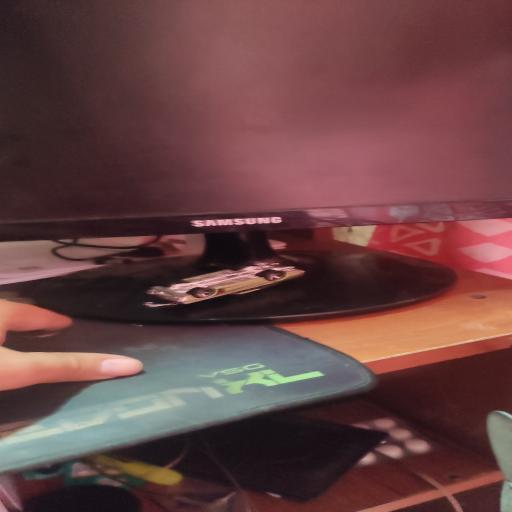Carrito: (147, 263, 304, 304)
